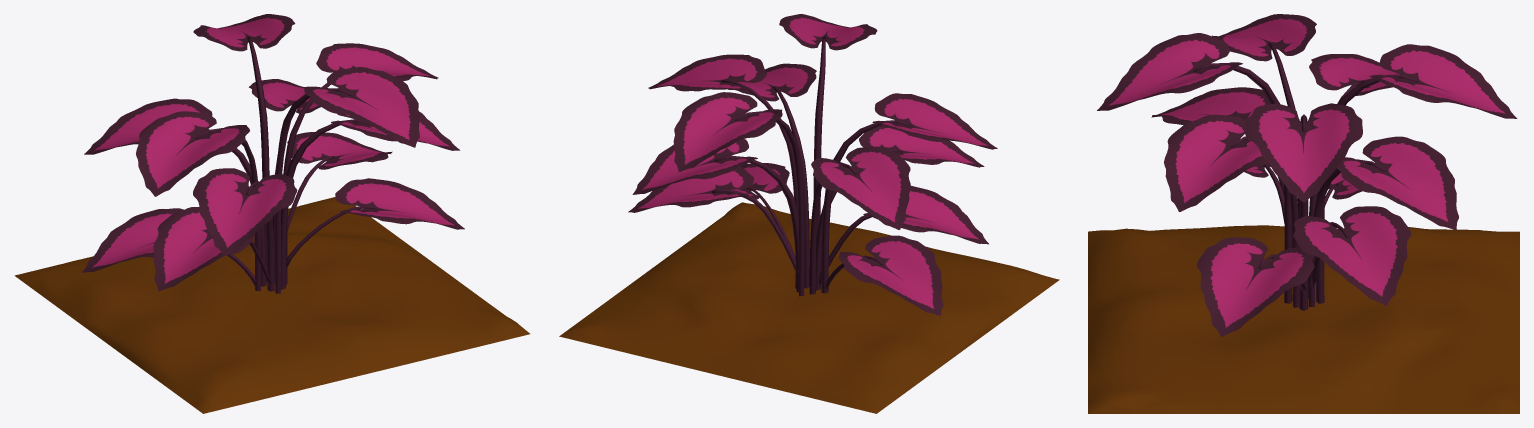
File: begonia-rex-p3-leaf.glb
3 views of the same model, side by side, from view 1: azimuth 30°, elevation 25°; view 2: azimuth 150°, elevation 25°; view 3: azimuth 270°, elevation 25° (orthographic). The views are drawn at different scales.
Visible parts, largest first — view 1: 3_nft_out_of_bloom; view 2: 3_nft_out_of_bloom; view 3: 3_nft_out_of_bloom.
Part boxes in pixels (x1=…): 3_nft_out_of_bloom: x1=14, y1=14, x2=529, y2=413; 3_nft_out_of_bloom: x1=559, y1=14, x2=1059, y2=413; 3_nft_out_of_bloom: x1=1088, y1=14, x2=1519, y2=413.
Bounding box in the file's own units: 0.7056 × 0.5058 × 0.7.
Materials: 3 (1 with a texture image).
